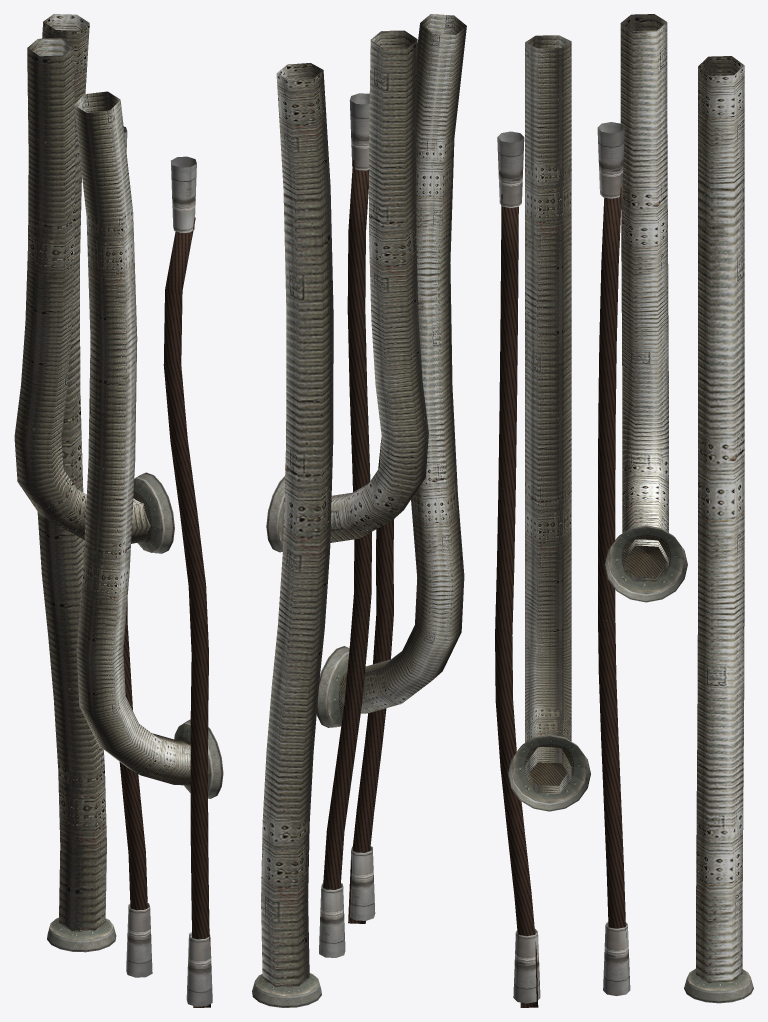
File: EQP_PIPES005.FBX
3 views of the same model, side by side, from view 1: azimuth 30°, elevation 25°; view 2: azimuth 150°, elevation 25°; view 3: azimuth 270°, elevation 25° (orthographic).
Visible parts, largest first — view 1: PIPES005; view 2: PIPES005; view 3: PIPES005.
Part boxes in pixels (x1,y1,x2,y2): PIPES005: (14, 14, 223, 1007); PIPES005: (252, 14, 466, 1007); PIPES005: (495, 14, 753, 1007).
Size of the model in its own units: 46.63 by 301 by 75.43.
Materials: 1 (1 with a texture image).
